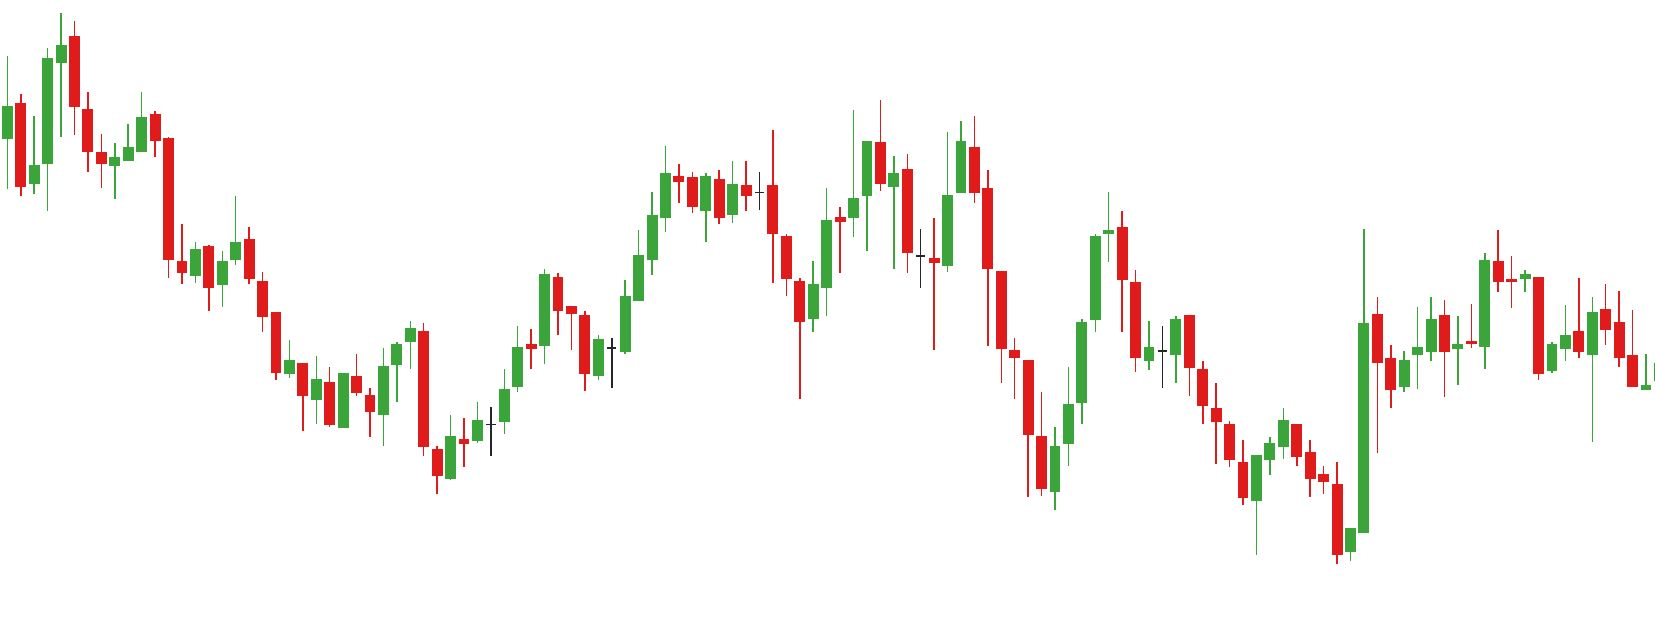buy: (1247, 462, 1358, 566), (363, 374, 457, 497), (525, 303, 605, 395)
sell: (764, 111, 858, 279)
